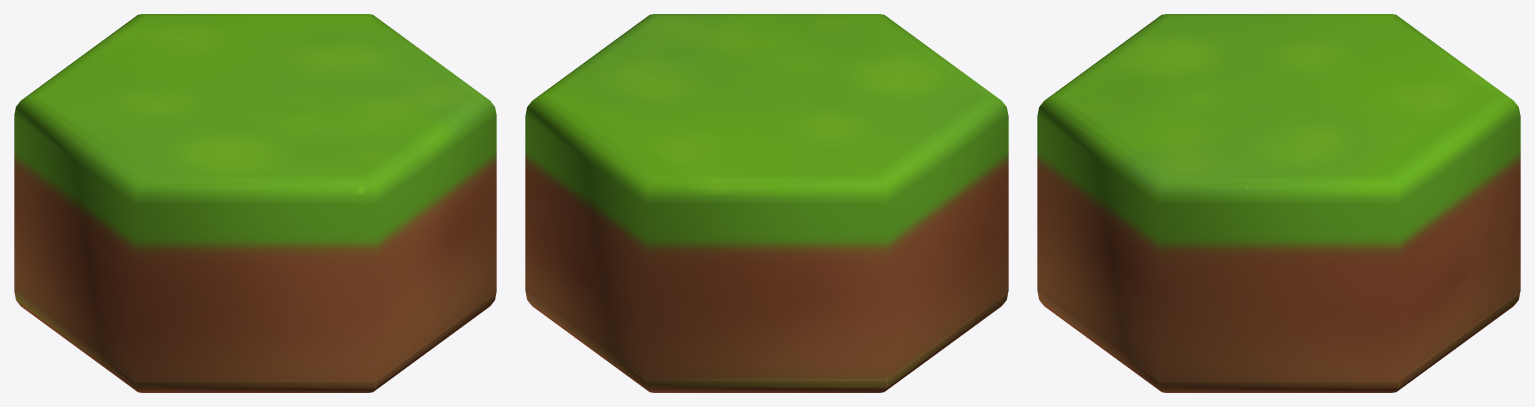
File: BossTile1.fbx
The picture shows the model from 3 angles, left to right: view 1: azimuth 30°, elevation 25°; view 2: azimuth 150°, elevation 25°; view 3: azimuth 270°, elevation 25°; orthographic projection.
Parts seen in each view (by area): view 1: Cylinder003; view 2: Cylinder003; view 3: Cylinder003.
Part boxes in pixels (bbox=[...]): Cylinder003: bbox=[14, 14, 496, 392]; Cylinder003: bbox=[525, 14, 1008, 392]; Cylinder003: bbox=[1037, 14, 1520, 392].
Size of the model in its own units: 23713 by 13484 by 27382.
1 material, 1 textured.
